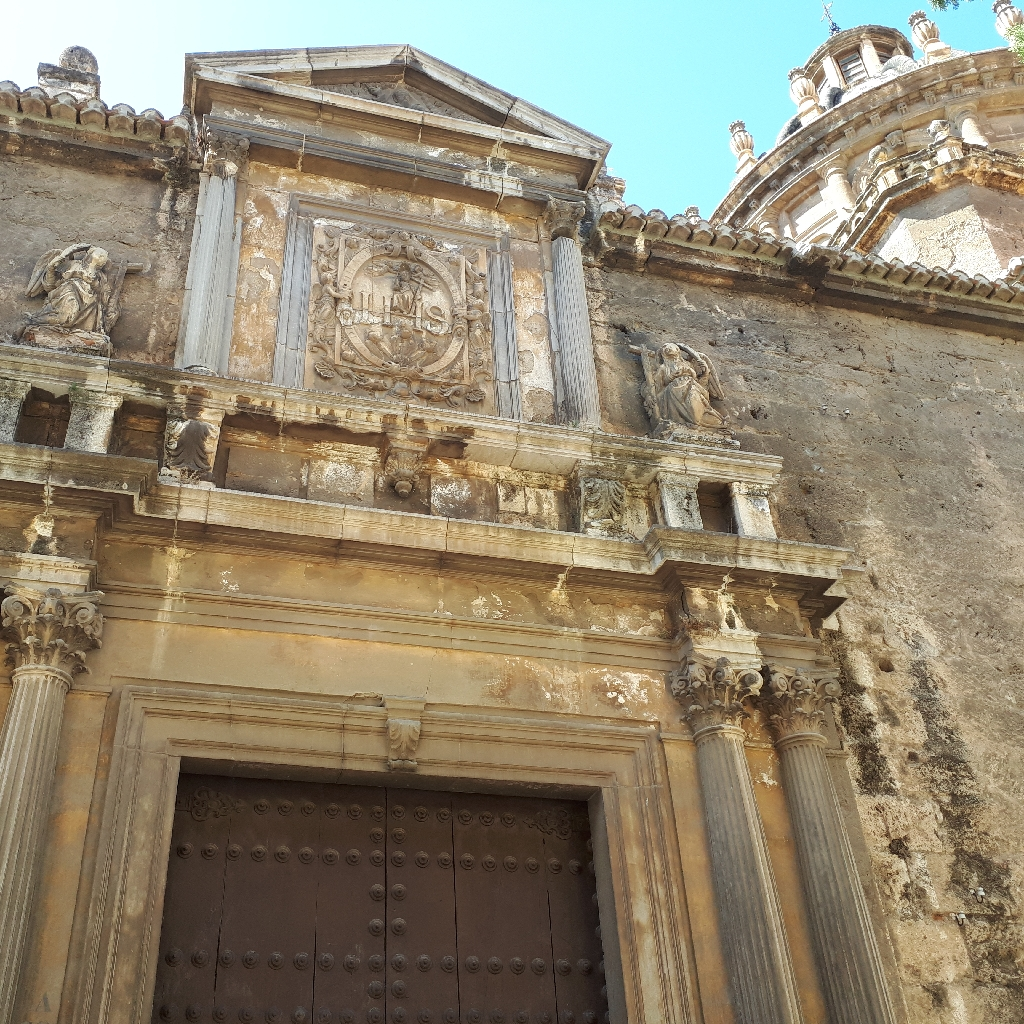fronton: (176, 37, 611, 166)
vano-adintelado: (58, 647, 717, 1024)
